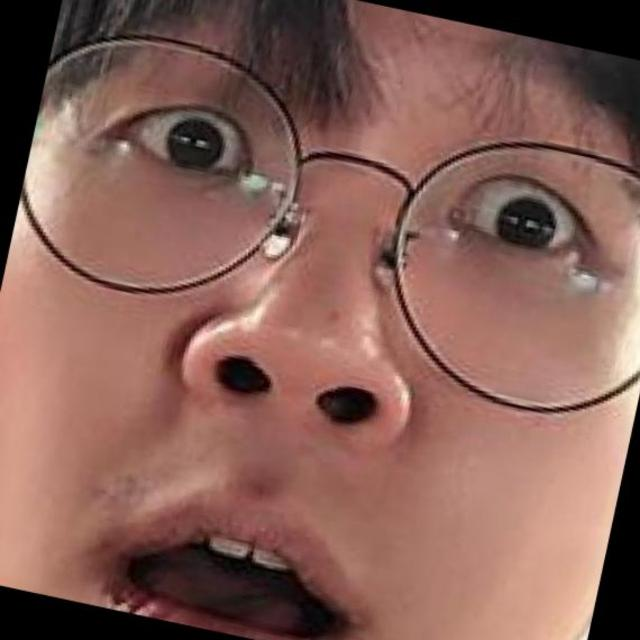Surprised: (56, 14, 601, 640)
